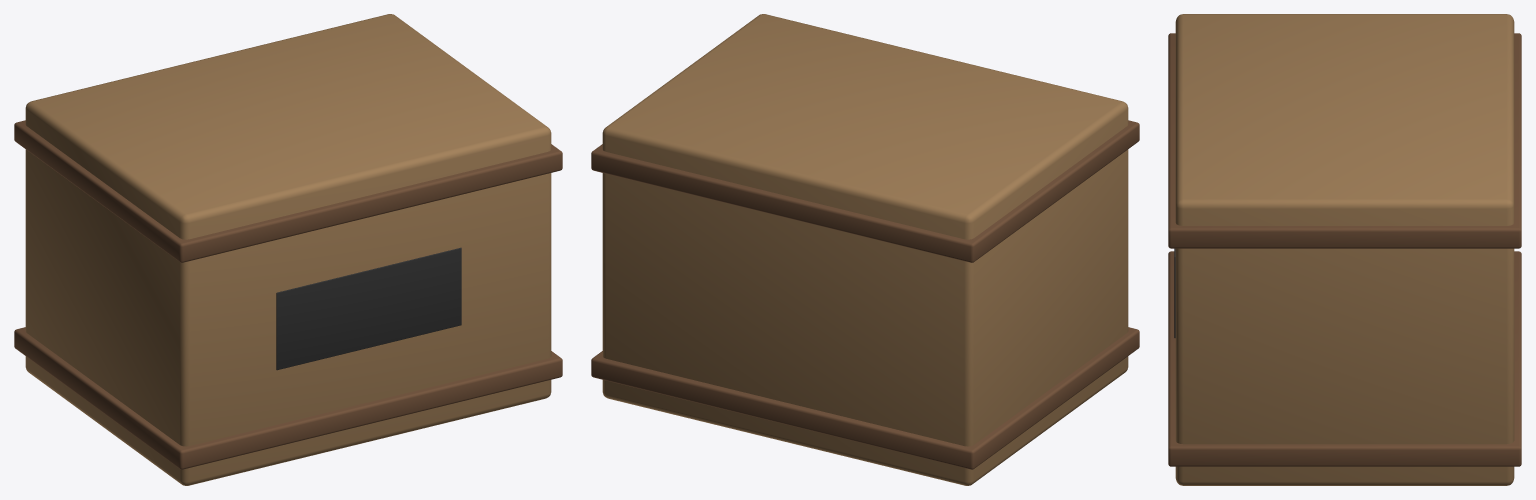
File: crate.glb
3 views of the same model, side by side, from view 1: azimuth 30°, elevation 25°; view 2: azimuth 150°, elevation 25°; view 3: azimuth 270°, elevation 25° (orthographic). The views are drawn at different scales.
Parts seen in each view (by area): view 1: crate, stencil, band0.05, band0.37; view 2: crate, band0.05, band0.37; view 3: crate, band0.37, band0.05.
Boxes of the visible parts, x1,y1,x2,y2 form: crate: [25, 14, 551, 485]; stencil: [276, 247, 461, 370]; band0.05: [14, 327, 562, 469]; band0.37: [14, 120, 562, 262]; crate: [602, 14, 1128, 485]; band0.05: [591, 327, 1139, 469]; band0.37: [591, 120, 1139, 262]; crate: [1175, 14, 1514, 485]; band0.37: [1168, 33, 1521, 248]; band0.05: [1168, 251, 1521, 466].
Size of the model in its own units: 0.62 by 0.42 by 0.47.
